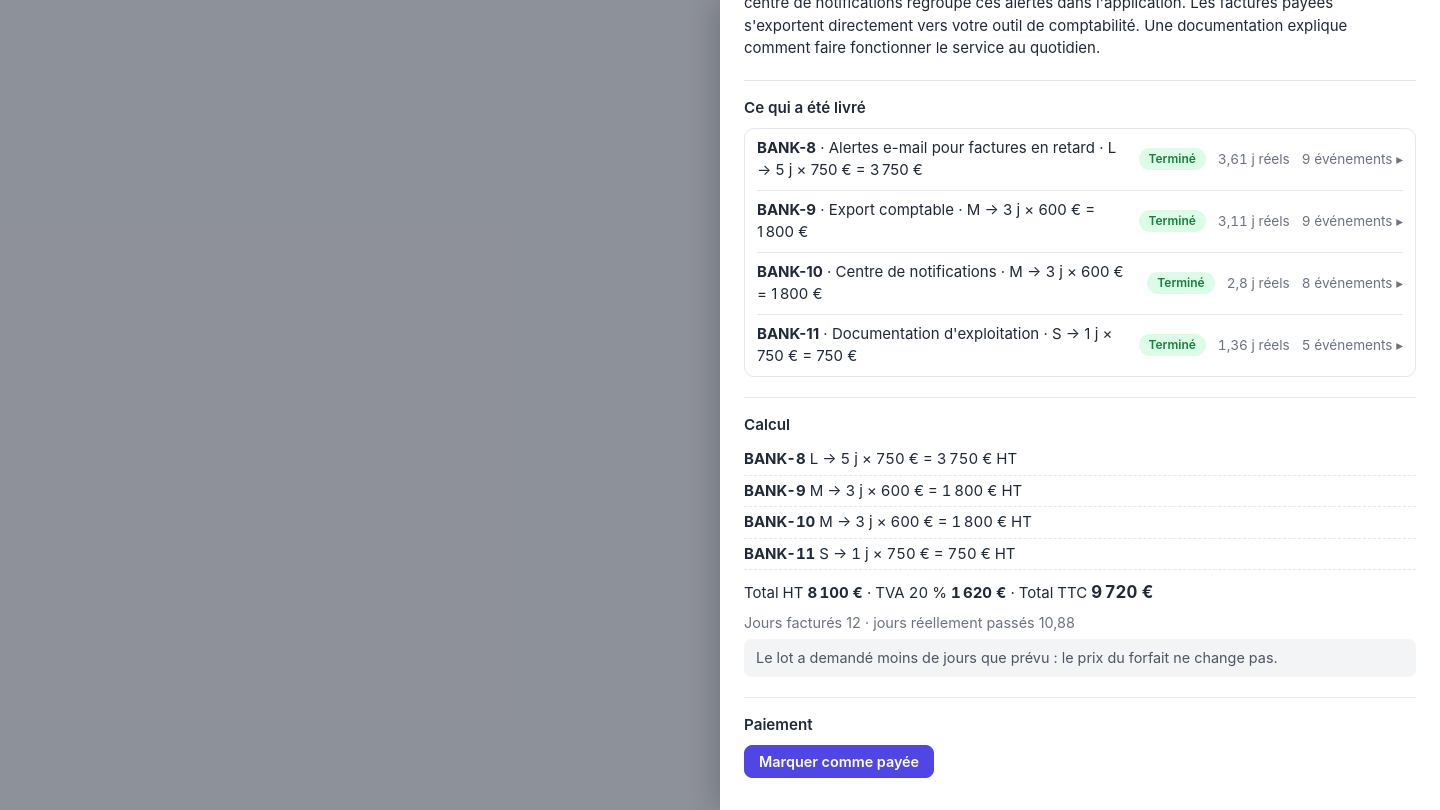
Test: InvoiceDetail › shows why a payment failed under the button
(page scrolled)
Click the button "Marquer comme payée" at {"x": 839, "y": 761}, box [744, 745, 934, 778]
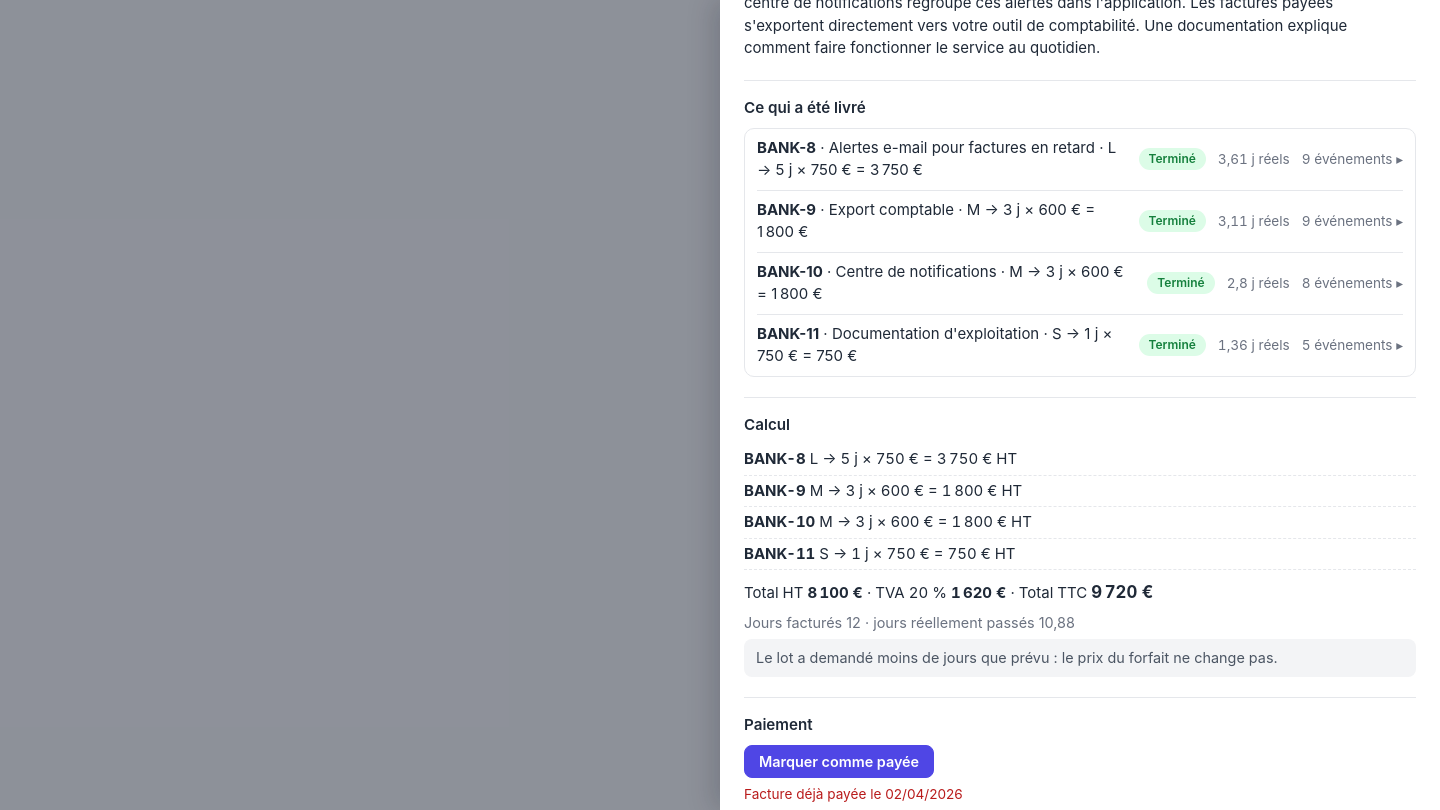
Expected: the message reads "Facture déjà payée le 02/04/2026", [744, 786, 963, 802]
